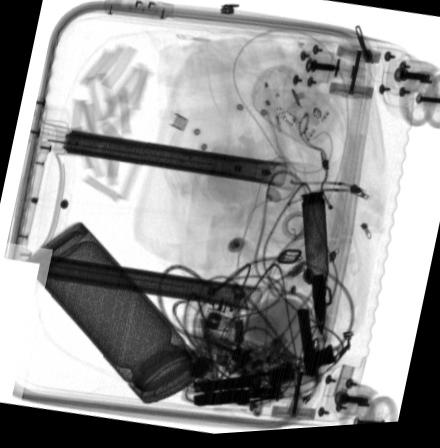Bullet: (300, 194, 328, 339)
Gun: (295, 312, 335, 380)
HandCuffs: (191, 362, 294, 410)
